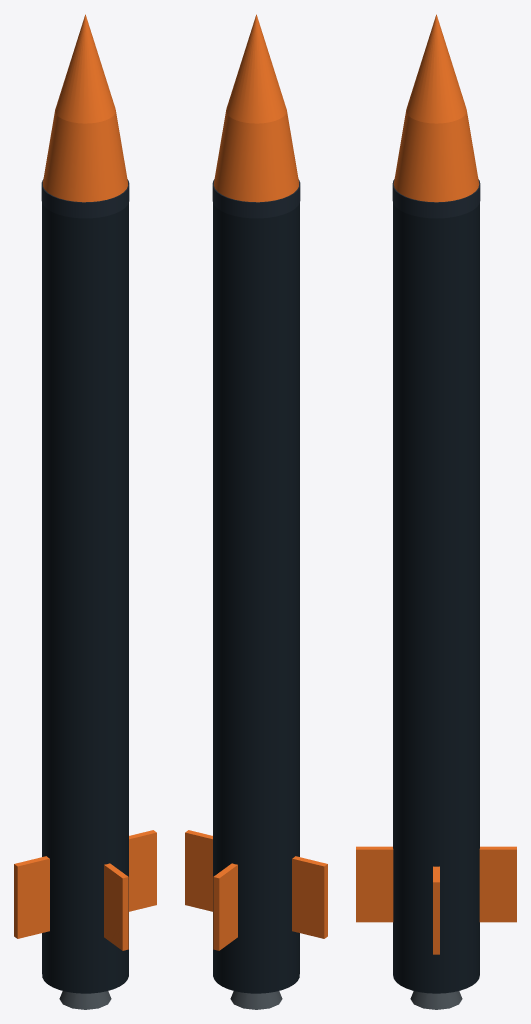
The model's file is alpha.glb.
The picture shows the model from 3 angles, left to right: view 1: azimuth 30°, elevation 25°; view 2: azimuth 150°, elevation 25°; view 3: azimuth 270°, elevation 25°; orthographic projection.
Parts seen in each view (by area): view 1: body-0, fairing, nose, fin-2, fin-0, fin-1, interstage-0, engine-0-0; view 2: body-0, fairing, nose, fin-2, fin-0, fin-3, interstage-0, engine-0-0; view 3: body-0, fairing, nose, fin-1, fin-3, interstage-0, engine-0-0, fin-0.
Boxes of the visible parts, <box> form: body-0: <box>42,203,128,993</box>; fairing: <box>43,110,127,202</box>; nose: <box>55,14,115,123</box>; fin-2: <box>14,856,49,938</box>; fin-0: <box>129,830,156,911</box>; fin-1: <box>104,863,128,950</box>; interstage-0: <box>41,179,129,218</box>; engine-0-0: <box>59,991,111,1009</box>; body-0: <box>213,203,299,993</box>; fairing: <box>214,110,298,202</box>; nose: <box>226,14,286,123</box>; fin-2: <box>292,856,327,938</box>; fin-0: <box>185,830,212,911</box>; fin-3: <box>213,863,237,950</box>; interstage-0: <box>212,179,300,218</box>; engine-0-0: <box>230,991,282,1009</box>; body-0: <box>393,203,479,993</box>; fairing: <box>393,111,479,202</box>; nose: <box>406,14,466,123</box>; fin-1: <box>356,846,393,922</box>; fin-3: <box>479,846,516,922</box>; interstage-0: <box>392,179,480,218</box>; engine-0-0: <box>410,991,462,1009</box>; fin-0: <box>433,866,439,954</box>.
Bounding box in the file's own units: 0.0463 × 0.3126 × 0.0463.
